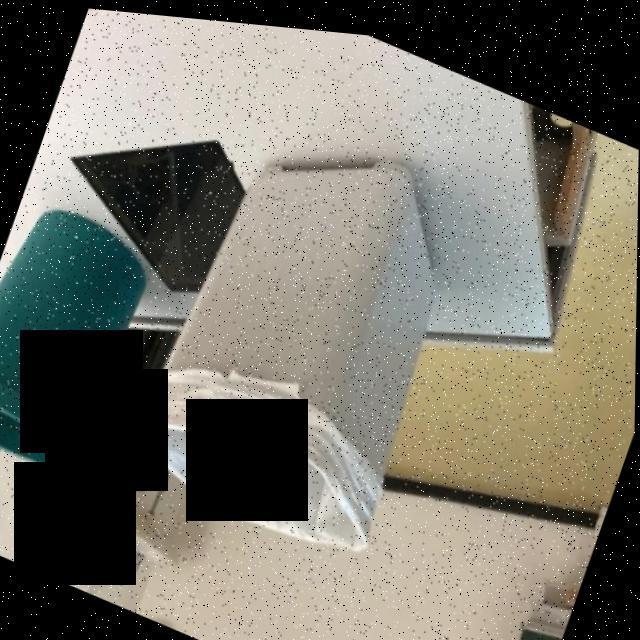bin: (99, 65, 526, 599), (0, 169, 167, 516)
